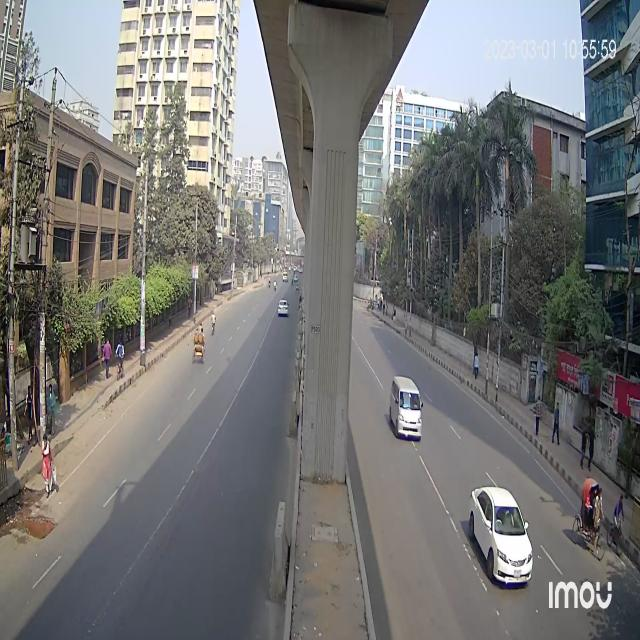rikshaw: (571, 463, 605, 556), (192, 325, 205, 368)
